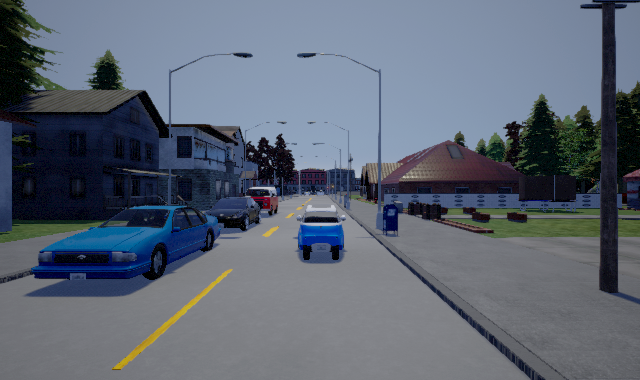traffic_light: (590, 188, 592, 190)
vehicle: (34, 202, 220, 283), (296, 205, 346, 260), (205, 195, 262, 232), (245, 185, 278, 215)
